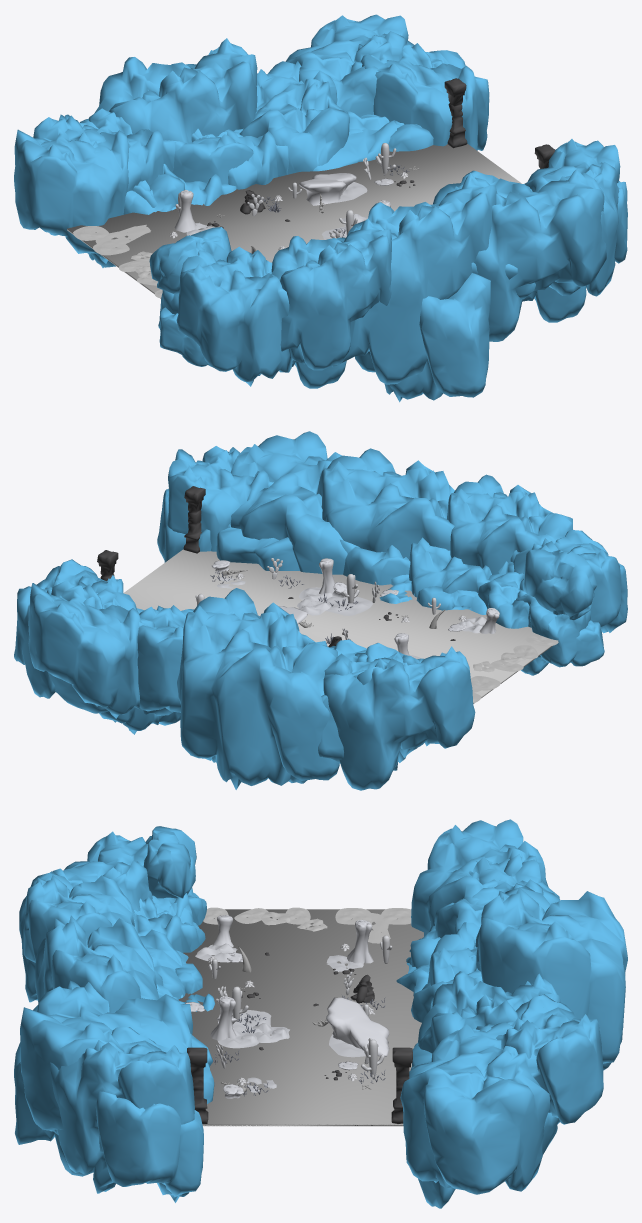
Rendered from Zones 6.fbx.
3 views of the same model, one above another, from view 1: azimuth 30°, elevation 25°; view 2: azimuth 150°, elevation 25°; view 3: azimuth 270°, elevation 25° (orthographic). The views are drawn at different scales.
Parts seen in each view (by area): view 1: Zones.005, Zones.006, Zones.058, Zones.059, Zones.056, Zones.061; view 2: Zones.005, Zones.006, Zones.061, Zones.058, Zones.059, Zones.056; view 3: Zones.005, Zones.006, Zones.058, Zones.061, Zones.059, Zones.056, Zones.060.
Part boxes in pixels (bbox=[...]): Zones.005: bbox=[14, 14, 627, 402]; Zones.006: bbox=[67, 144, 521, 298]; Zones.058: bbox=[174, 173, 393, 232]; Zones.059: bbox=[207, 78, 555, 228]; Zones.056: bbox=[175, 143, 396, 249]; Zones.061: bbox=[186, 182, 367, 239]; Zones.005: bbox=[14, 431, 627, 790]; Zones.006: bbox=[123, 549, 558, 703]; Zones.061: bbox=[217, 577, 486, 659]; Zones.058: bbox=[212, 558, 499, 655]; Zones.059: bbox=[97, 486, 455, 647]; Zones.056: bbox=[195, 558, 440, 639]; Zones.005: bbox=[14, 819, 627, 1208]; Zones.006: bbox=[178, 907, 423, 1126]; Zones.058: bbox=[185, 915, 389, 1098]; Zones.061: bbox=[195, 943, 365, 1092]; Zones.059: bbox=[187, 952, 412, 1123]; Zones.056: bbox=[208, 935, 392, 1074]; Zones.060: bbox=[213, 995, 385, 1096].
Bounding box in the file's own units: 12313 × 12418 × 5266.
